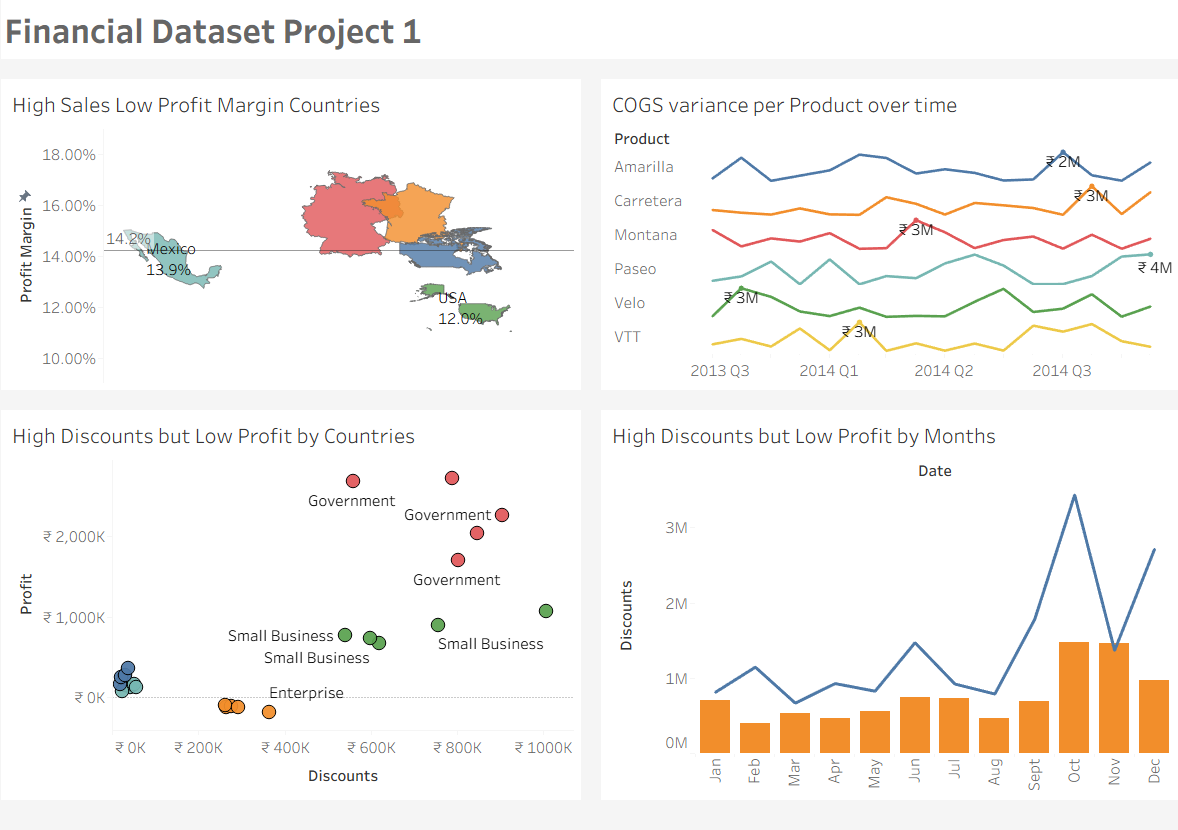

What the dashboard file says about the page in this screenshot:
{"tool":"tableau","page":{"name":"Dashboard 2","canvas":[1200,800],"ordinal":1},"visuals":[{"type":"text","box":[0,0,1200,69]},{"type":"worksheet","title":"High Sales Low Profit Margin Countries","mark":"Multipolygon","rows":["Calculation_373798808186880000"],"cols":["Sales "],"box":[0,69,600,331]},{"type":"worksheet","title":"COGS vary over time for top selling products","mark":"Line","rows":["Product ","COGS "],"cols":["Date"],"box":[600,69,600,331]},{"type":"worksheet","title":"High Discounts but Low Profit by Countries","mark":"Circle","rows":["Profit "],"cols":["Discounts "],"box":[0,400,600,400]},{"type":"worksheet","title":"High Discounts but Low Profit by Months","mark":"Automatic","rows":["Discounts ","Profit "],"cols":["Date"],"box":[600,400,600,400]}]}

Visuals, with their boxes on the page's 1200x800 design canvas (x1, y1, x2, y2). These are canvas units, not pixel positions in the 1178x830 screenshot, which may show the page scaled, cropped or inside an application window:
text: (0, 0, 1200, 69)
"High Sales Low Profit Margin Countries" worksheet (Multipolygon marks): (0, 69, 600, 400)
"COGS vary over time for top selling products" worksheet (Line marks): (600, 69, 1200, 400)
"High Discounts but Low Profit by Countries" worksheet (Circle marks): (0, 400, 600, 800)
"High Discounts but Low Profit by Months" worksheet: (600, 400, 1200, 800)
